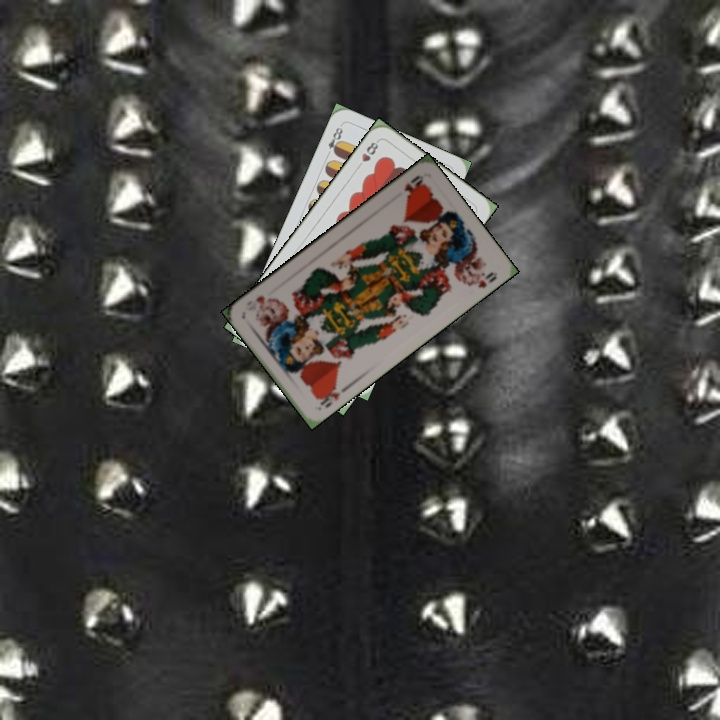E8: (322, 121, 346, 160)
H8: (353, 136, 381, 172)
HO: (313, 380, 343, 411), (400, 171, 427, 199)
